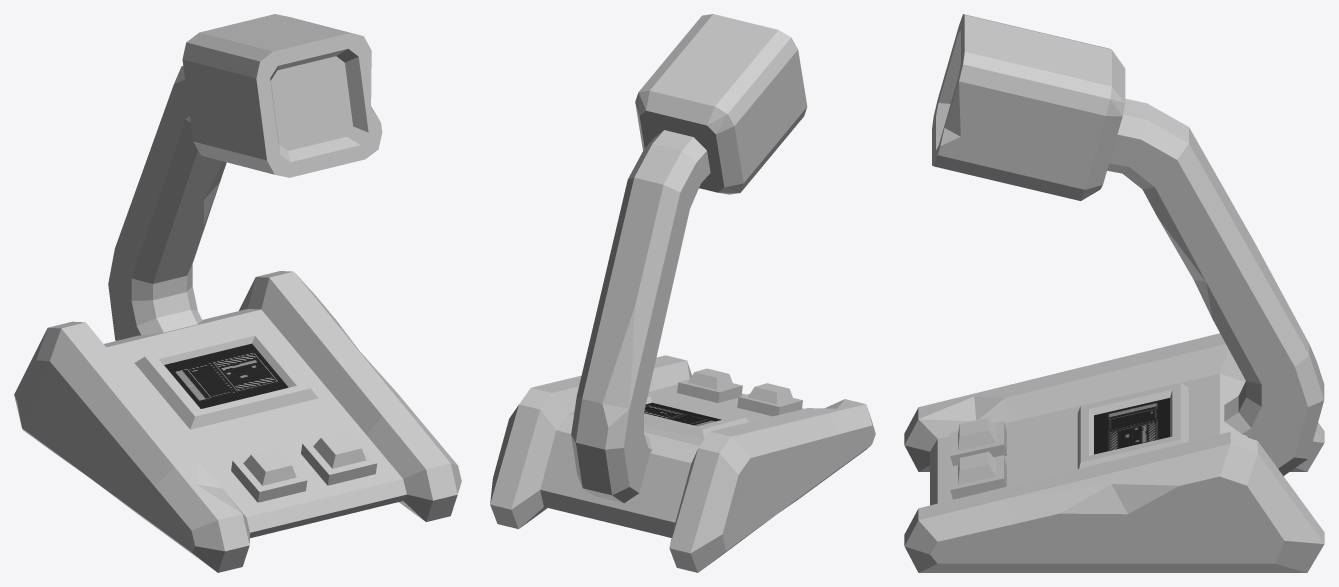
The model's file is SM_Prop_Microphone_01.fbx.
3 views of the same model, side by side, from view 1: azimuth 30°, elevation 25°; view 2: azimuth 150°, elevation 25°; view 3: azimuth 270°, elevation 25° (orthographic). The views are drawn at different scales.
Parts seen in each view (by area): view 1: SM_Prop_Microphone_01; view 2: SM_Prop_Microphone_01; view 3: SM_Prop_Microphone_01.
Part boxes in pixels (<box>): SM_Prop_Microphone_01: <box>14,14,461,572</box>; SM_Prop_Microphone_01: <box>490,14,875,572</box>; SM_Prop_Microphone_01: <box>904,14,1324,572</box>.
Bounding box in the file's own units: 23.96 × 41.67 × 32.84.
